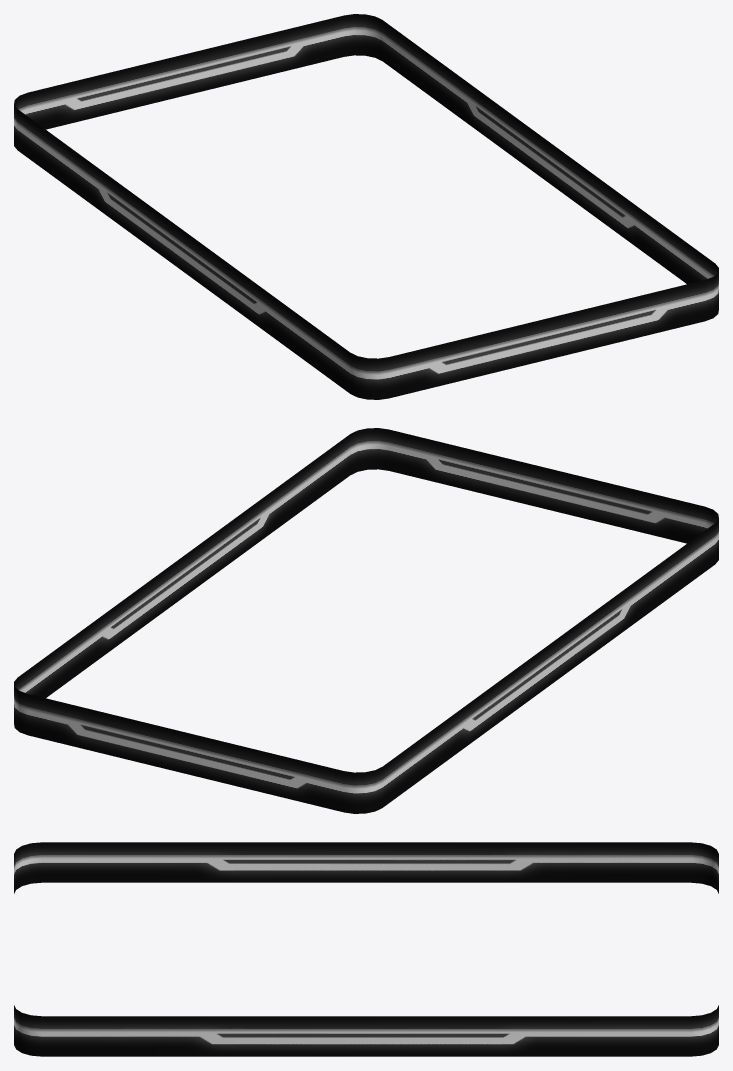
The model's file is Holo_Border_01.FBX.
The picture shows the model from 3 angles, top to bottom: view 1: azimuth 30°, elevation 25°; view 2: azimuth 150°, elevation 25°; view 3: azimuth 270°, elevation 25°; orthographic projection. The views are drawn at different scales.
Parts seen in each view (by area): view 1: Holo_Border_01; view 2: Holo_Border_01; view 3: Holo_Border_01.
Part boxes in pixels (x1,y1,x2,y2): Holo_Border_01: [14, 14, 718, 399]; Holo_Border_01: [14, 428, 718, 813]; Holo_Border_01: [14, 842, 718, 1056].
Bounding box in the file's own units: 3.5 × 0.3795 × 6.
Materials: 1 (1 with a texture image).
